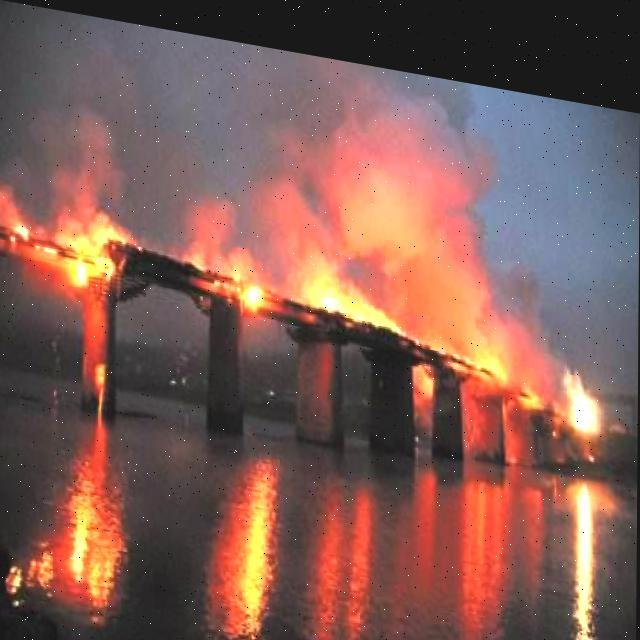Fire: (4, 174, 134, 307), (293, 236, 407, 330), (186, 220, 272, 312), (454, 318, 544, 397), (566, 363, 598, 418)
